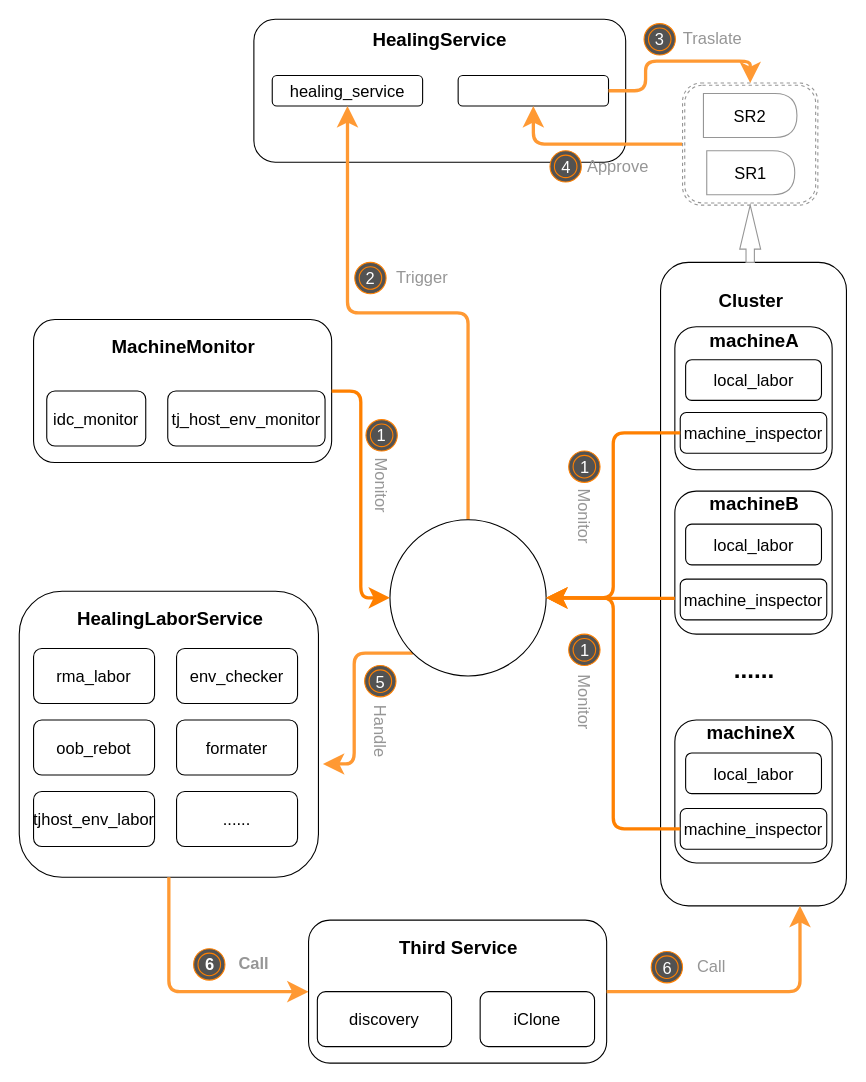
Image size: 866x1082. Some labels were removed from this diagram. The shapes that lost their labels are listed below. From the top down, each one's centre as x and y in pixels, then its label:
(533,90): action_manager
(467,597): TjMaster
